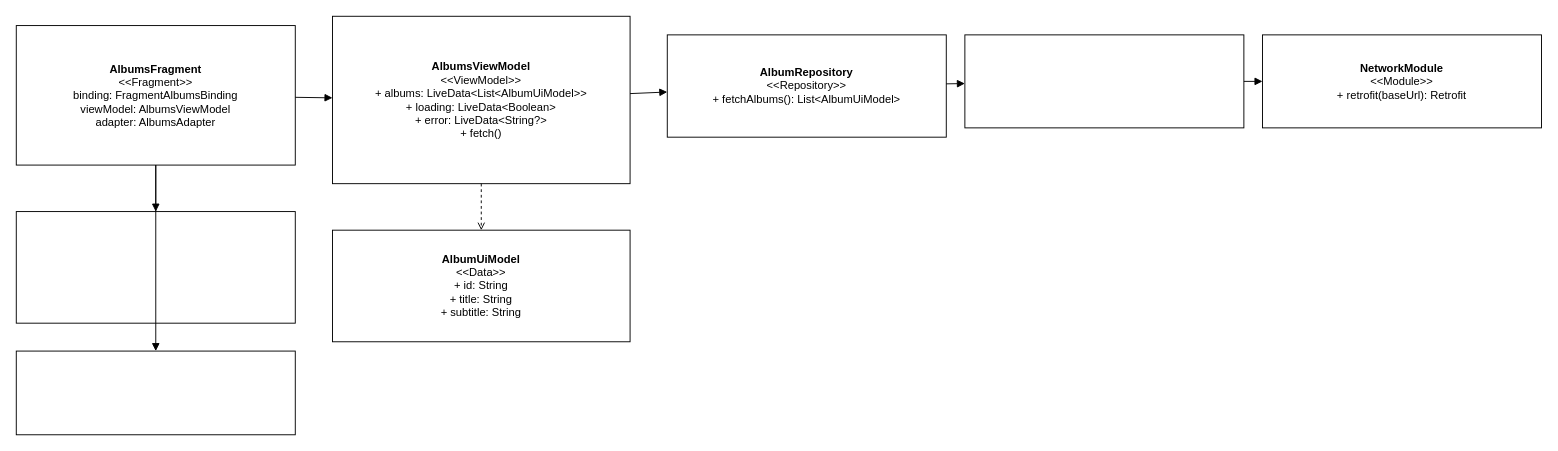
The diagram is 1558 pixels wide and 451 high, and some of its shapes have lost their labels. The box of each missing label's shape, as (x1, y1, x2, y2) in pixels:
AlbumDetailFragment <<Fragment>> + args: albumId: String: (15, 350, 295, 435)
AlbumsAdapter <<Adapter>> + submitList(list) + onAlbumClick(item): (15, 211, 295, 323)
AlbumsService <<Service Adapter>> + GET /albums: List<AlbumDto>: (964, 34, 1244, 128)
